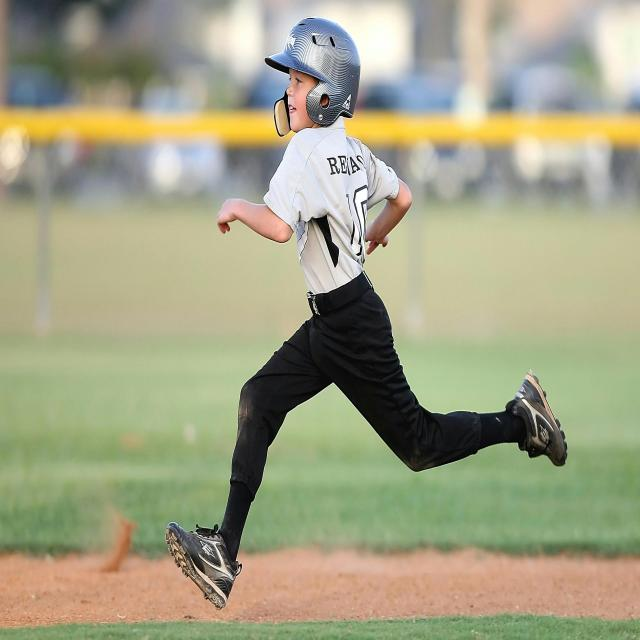stand: (197, 7, 389, 605)
